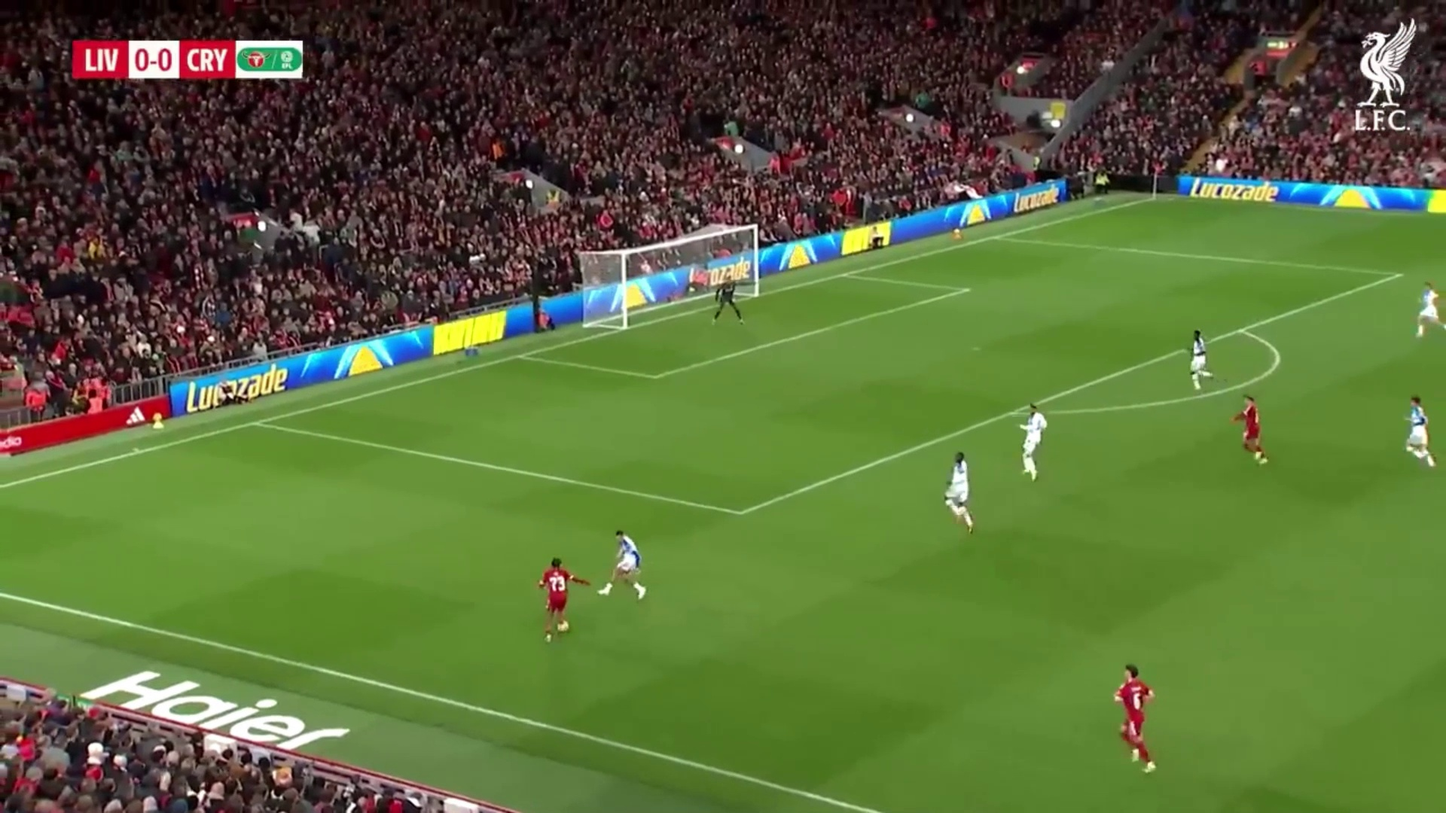player: (1113, 664, 1158, 771), (538, 558, 575, 642), (601, 530, 646, 599), (1233, 395, 1269, 467), (944, 452, 975, 535), (1019, 407, 1049, 480), (1189, 325, 1213, 393), (1406, 395, 1429, 464), (711, 280, 746, 324), (1414, 286, 1442, 338)
